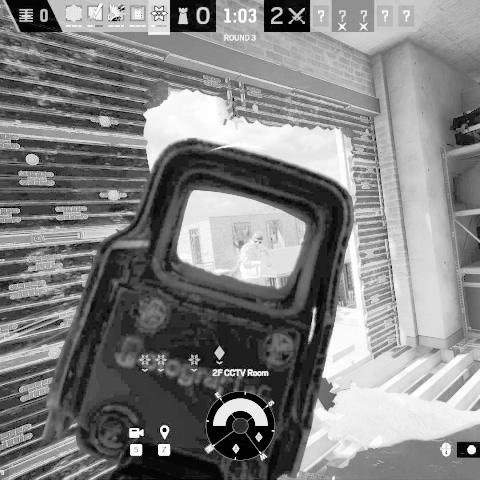Character: (238, 230, 274, 286)
Head: (251, 231, 265, 248)
